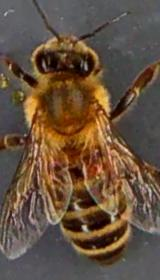varroa_mite: (81, 148, 106, 184)
